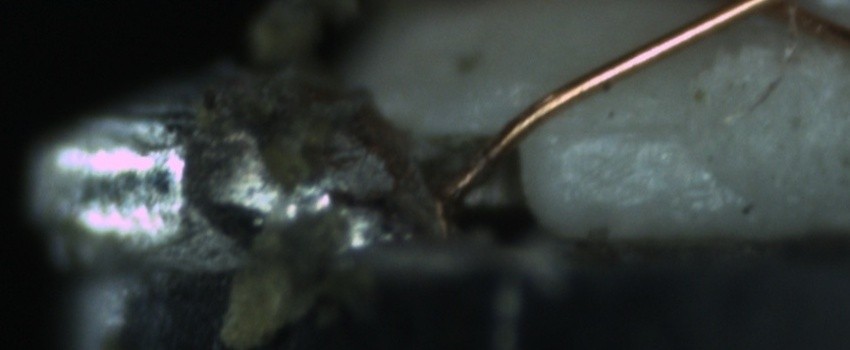CL: (694, 2, 849, 33)
DL: (546, 100, 688, 163)
